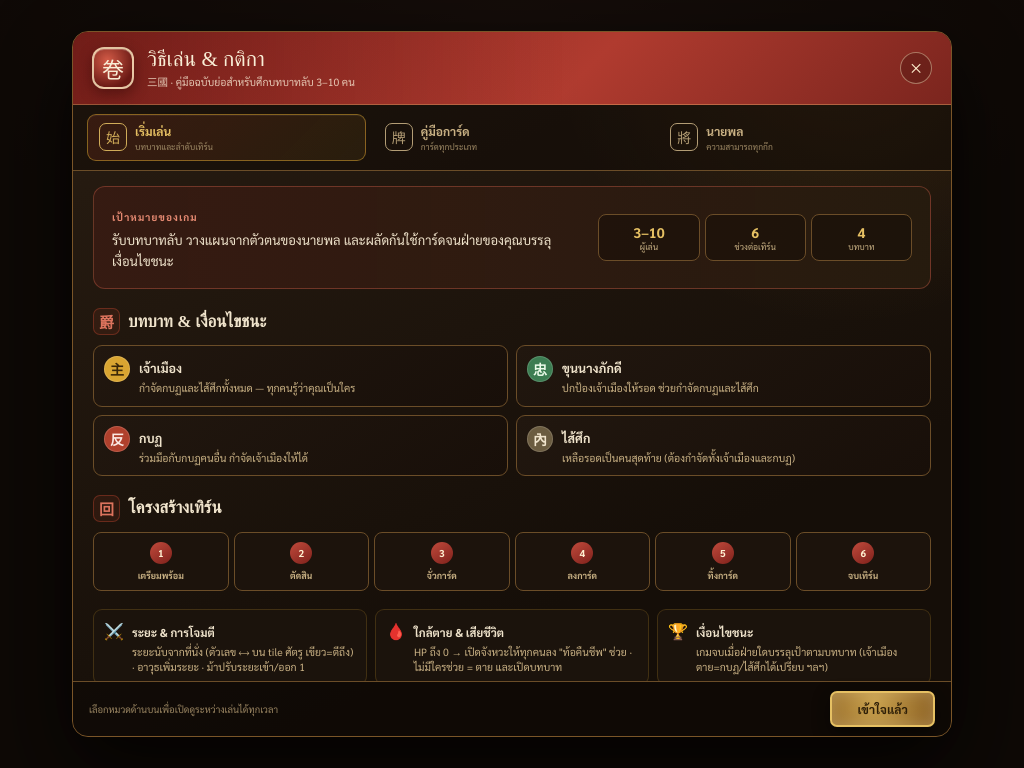
Test: RulesModal › lets the player switch from the quick-start overview to the card guide
Expected: the heading "爵 บทบาท & เงื่อนไขชนะ" is shown, left=93, top=308, right=266, bottom=336
Step 1. Click the tab "牌 คู่มือการ์ด การ์ดทุกประเภท" → click(445, 131), box left=373, top=114, right=651, bottom=161
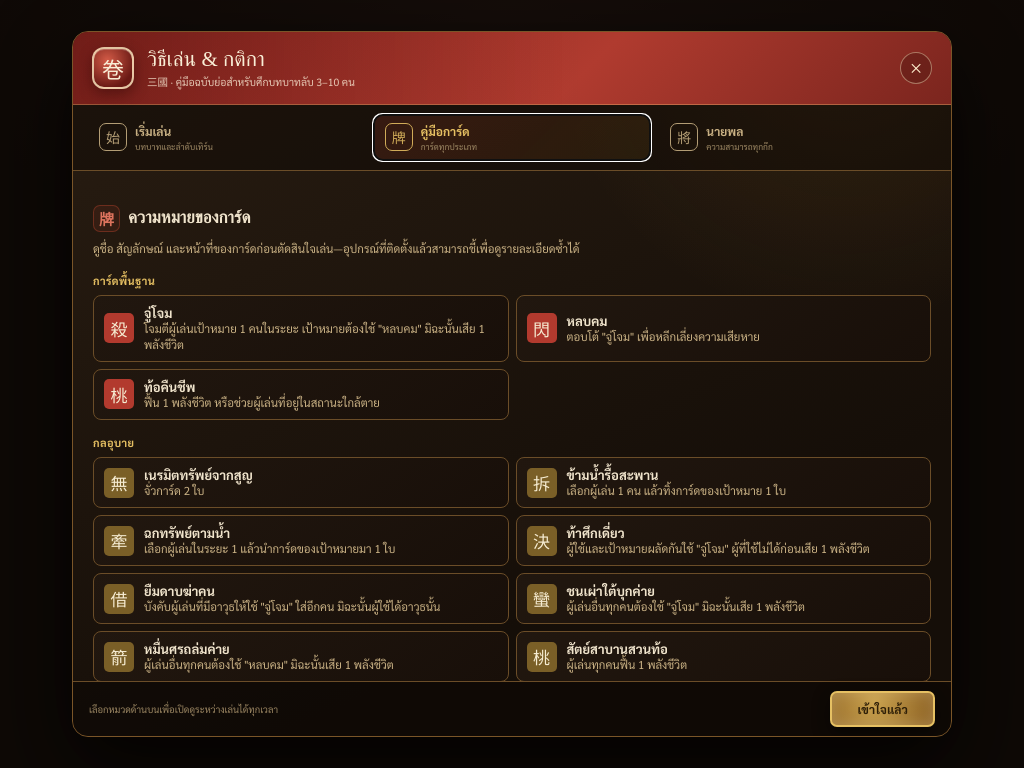
Expected: the heading "牌 ความหมายของการ์ด" is shown, left=93, top=205, right=251, bottom=232
Expected: the heading "บทบาท & เงื่อนไขชนะ" is gone
